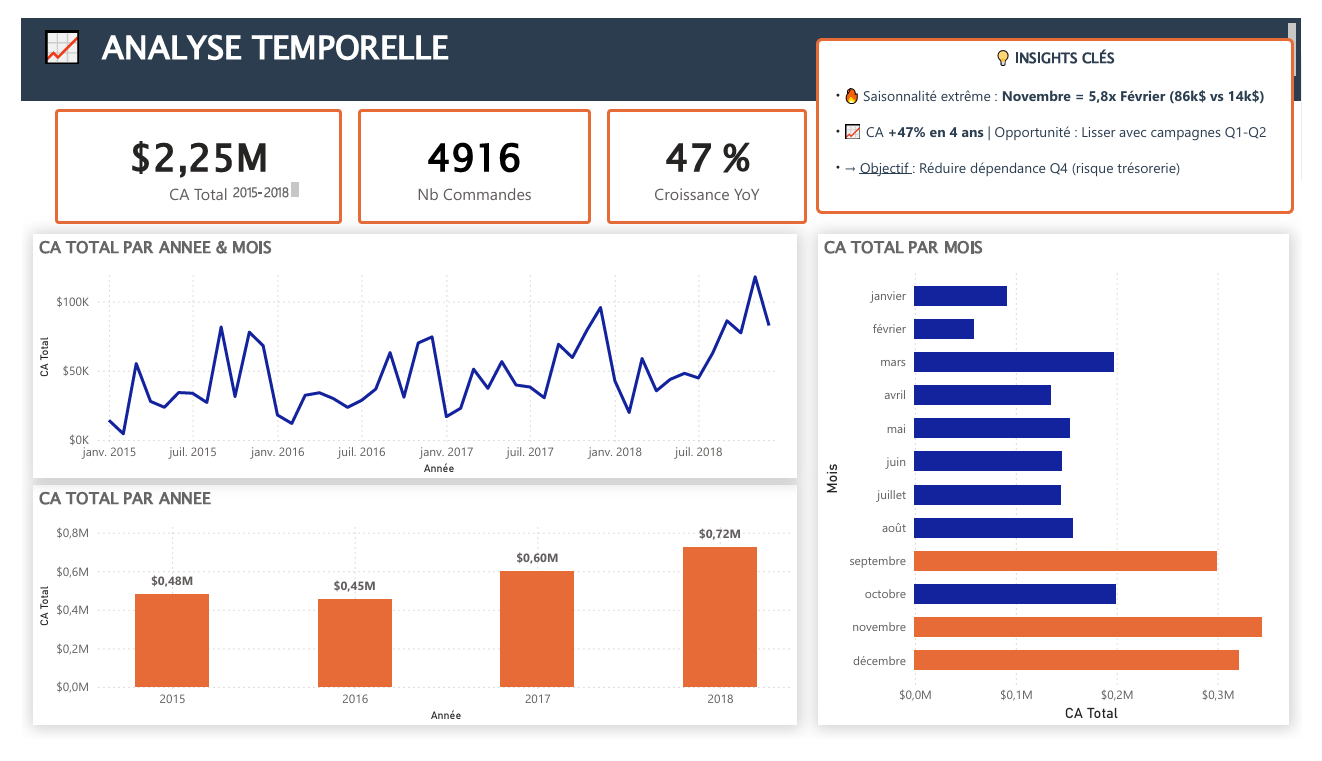

The page's visual inventory and layout, read from the dashboard file:
{"tool":"powerbi","page":{"name":"Analyse temporelle","canvas":[1280,720],"ordinal":4},"visuals":[{"type":"textbox","box":[0,0,1280,82.7],"z":0},{"type":"card","title":"CA TOTAL 2015-2018","fields":{"Values":["MESURE.CA Total"]},"box":[32.7,90,287.3,115.5],"z":1000},{"type":"card","fields":{"Values":["MESURE.Nb Commandes"]},"box":[336,90,233,115],"z":2000},{"type":"textbox","box":[205.9,158.5,77,25.6],"z":3000},{"type":"card","fields":{"Values":["MESURE.Croissance YoY"]},"box":[585,90,200,115],"z":4000},{"type":"columnChart","title":"CA TOTAL PAR ANNEE","fields":{"Category":["fact_order_item.order_date.Variation.Hiérarchie de dates.Année","fact_order_item.order_date.Variation.Hiérarchie de dates.Trimestre","fact_order_item.order_date.Variation.Hiérarchie de dates.Mois","fact_order_item.order_date.Variation.Hiérarchie de dates.Jour"],"Y":["MESURE.CA Total"]},"box":[12.5,466.7,763.4,240.1],"z":5000},{"type":"clusteredBarChart","title":"CA TOTAL PAR MOIS","fields":{"Category":["fact_order_item.order_date.Variation.Hiérarchie de dates.Mois"],"Y":["MESURE.CA Total"]},"box":[797,216.1,471.5,490.7],"z":6000},{"type":"lineChart","title":"CA TOTAL PAR ANNEE & MOIS","fields":{"Category":["fact_order_item.order_date.Variation.Hiérarchie de dates.Année","fact_order_item.order_date.Variation.Hiérarchie de dates.Mois"],"Y":["MESURE.CA Total"]},"box":[12.5,216.1,763.4,243.9],"z":7000},{"type":"textbox","box":[794.5,18.6,477,176.5],"z":8000}]}

Visuals, with their boxes in screenshot pixels (x1, y1, x2, y2), scaled from the page's 1280x720 canvas onto the 1322x761 screenshot:
textbox: (left=0, top=0, right=1321, bottom=87)
"CA TOTAL 2015-2018" card: (left=34, top=95, right=330, bottom=217)
card - MESURE.Nb Commandes: (left=347, top=95, right=588, bottom=217)
textbox: (left=213, top=168, right=292, bottom=195)
card - MESURE.Croissance YoY: (left=604, top=95, right=811, bottom=217)
"CA TOTAL PAR ANNEE" columnChart: (left=13, top=493, right=801, bottom=747)
"CA TOTAL PAR MOIS" clusteredBarChart: (left=823, top=228, right=1310, bottom=747)
"CA TOTAL PAR ANNEE & MOIS" lineChart: (left=13, top=228, right=801, bottom=486)
textbox: (left=821, top=20, right=1313, bottom=206)
